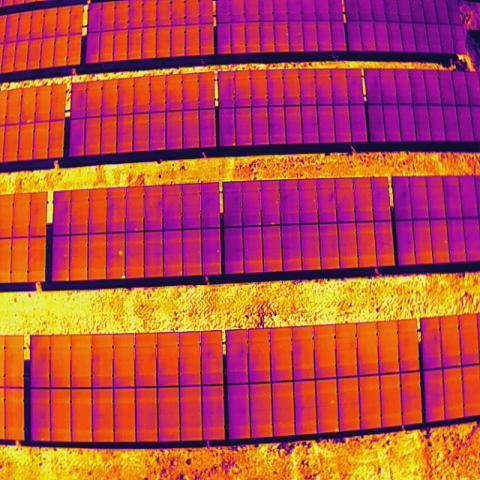fault: (328, 399, 336, 404), (120, 274, 126, 280), (334, 427, 340, 433), (118, 249, 123, 256), (26, 119, 32, 124), (232, 142, 236, 147)
